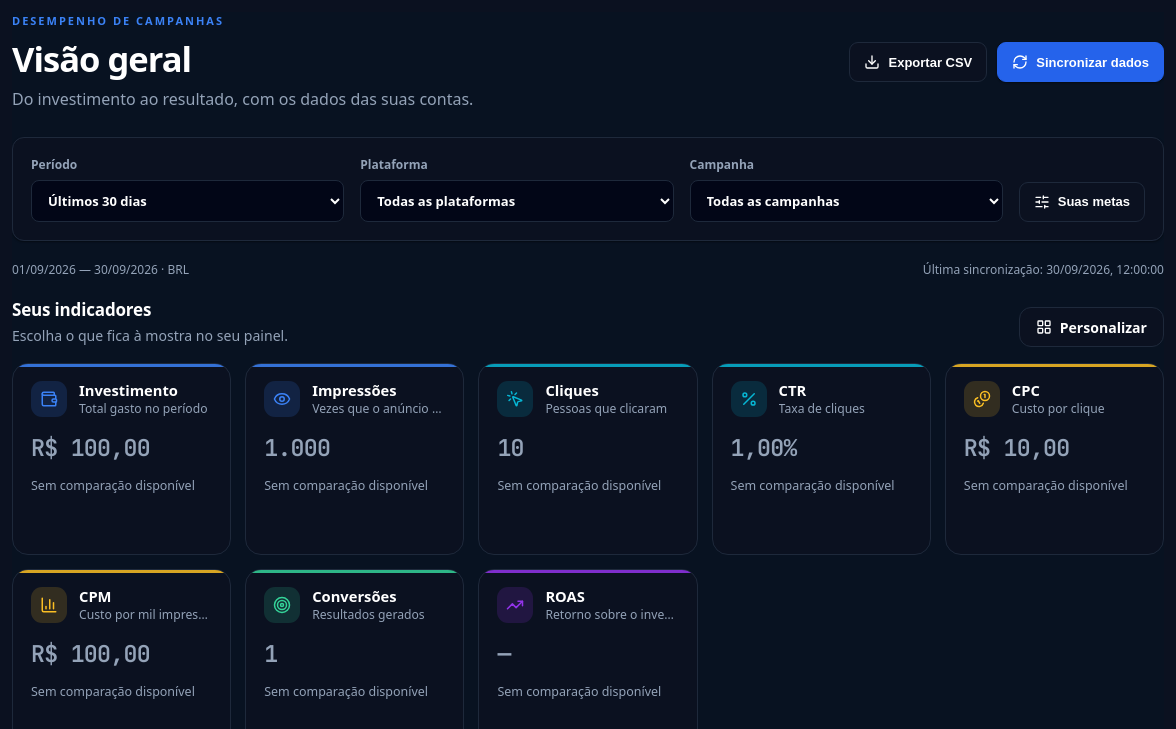
metas na análise completa › salva as metas e confirma com o texto de Metas, não com o do servidor
Click the button "Suas metas": coordinates (1082, 202) [1019, 182, 1145, 222]
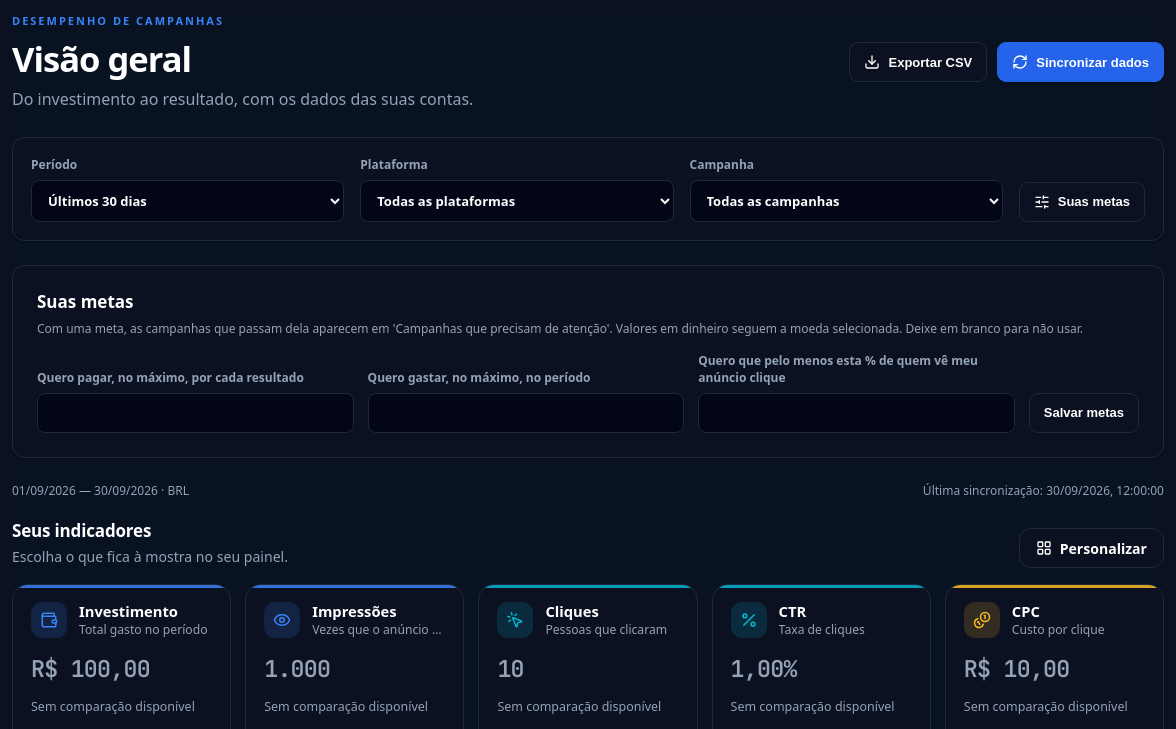
In the number field labelled "Quero pagar, no máximo, por cada resultado": coordinates (195, 413) [37, 393, 354, 433], type "45"
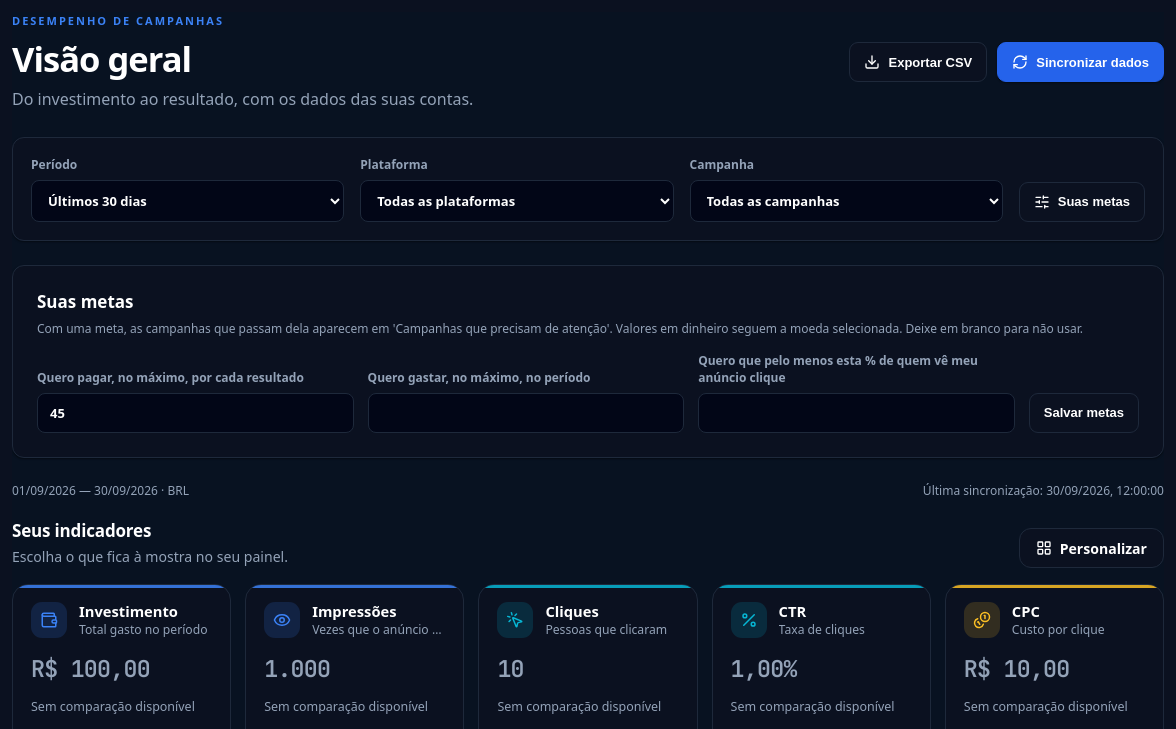
Click the button "Salvar metas": coordinates (1084, 413) [1029, 393, 1139, 433]
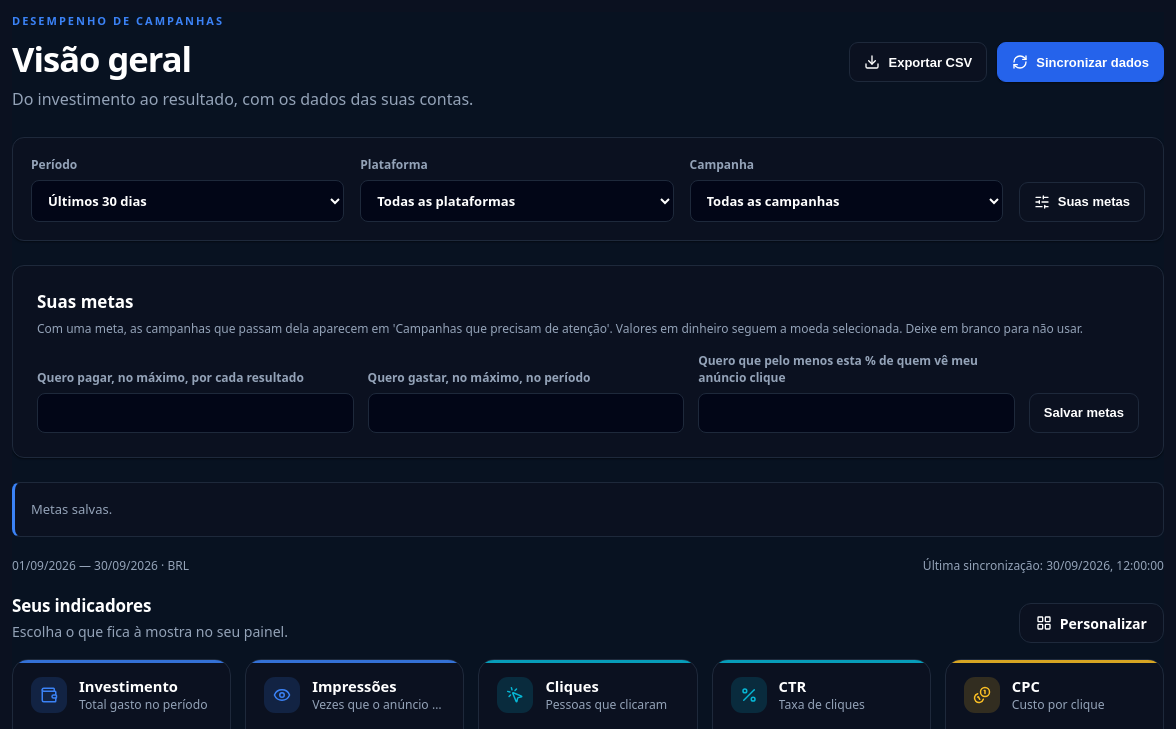
Now the text "Metas salvas." is shown, box [12, 482, 1164, 537]
